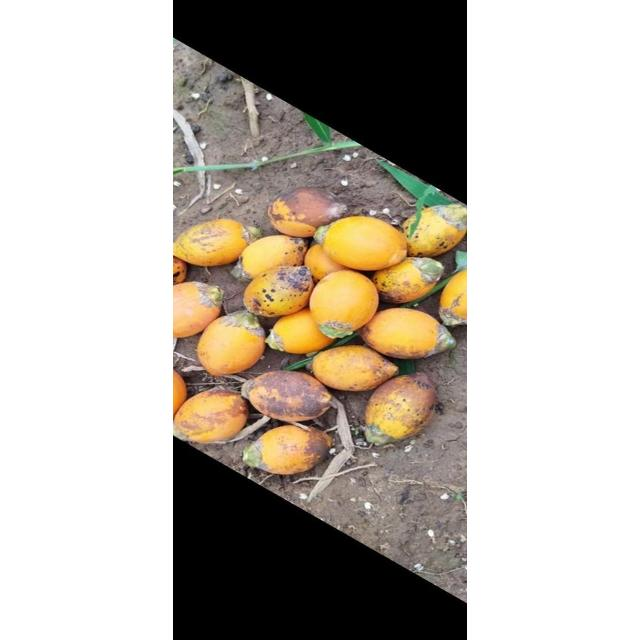good: (364, 373, 438, 443), (359, 308, 456, 359), (242, 371, 334, 422), (308, 270, 379, 336), (322, 217, 408, 271), (243, 424, 335, 474), (197, 311, 266, 375), (174, 388, 250, 442), (266, 188, 348, 236), (243, 264, 315, 318), (311, 346, 399, 390), (174, 219, 252, 267), (370, 258, 446, 304), (400, 205, 466, 257), (268, 310, 338, 354), (238, 235, 308, 279), (173, 282, 223, 338), (304, 243, 352, 283), (439, 268, 466, 326), (174, 366, 188, 426), (363, 426, 395, 446), (242, 440, 262, 468), (173, 252, 187, 286), (245, 224, 263, 242)
